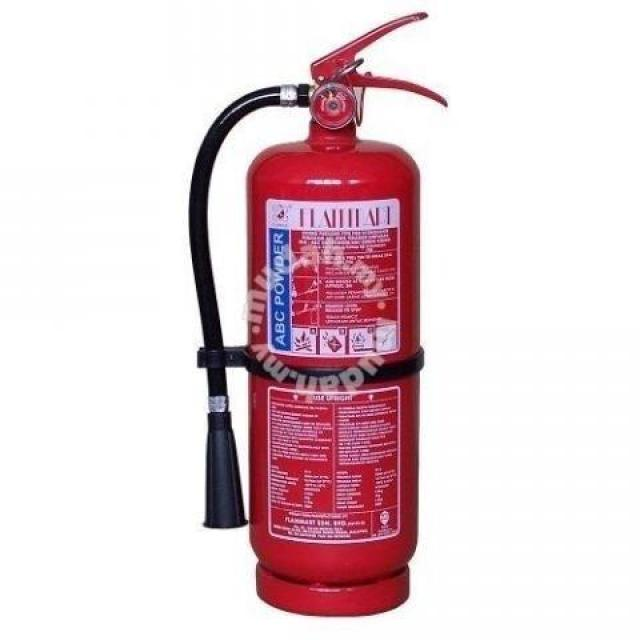fire_extinguisher: (178, 7, 450, 621)
